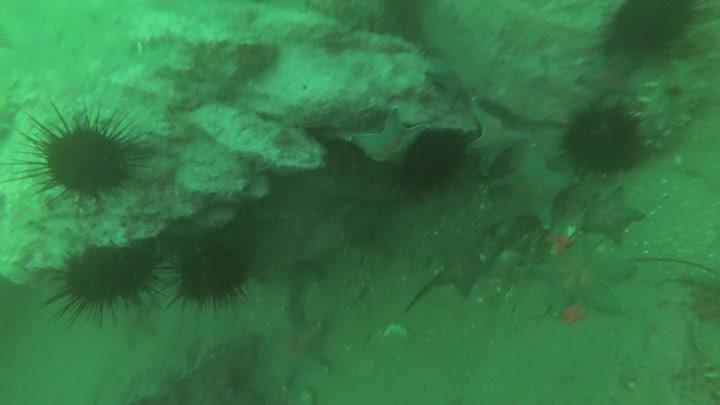urchin: (10, 99, 143, 213), (35, 243, 167, 326), (547, 98, 645, 178), (162, 242, 263, 319), (598, 2, 692, 60), (391, 129, 471, 196)
